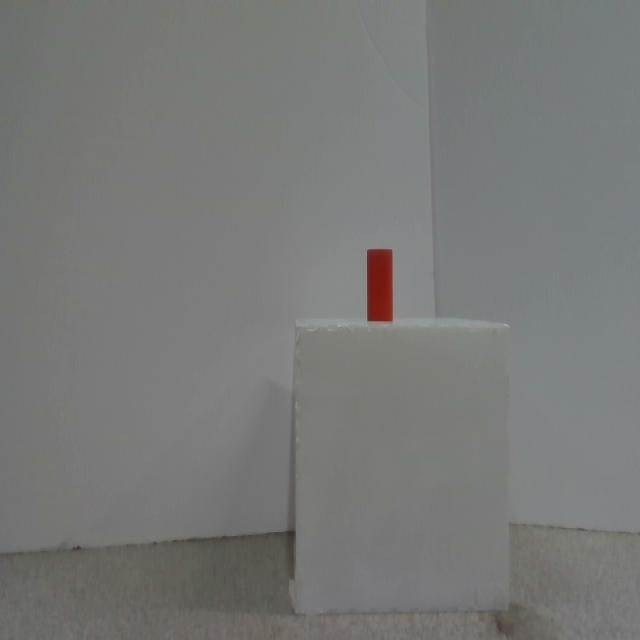red_cylinder: (367, 249, 393, 322)
